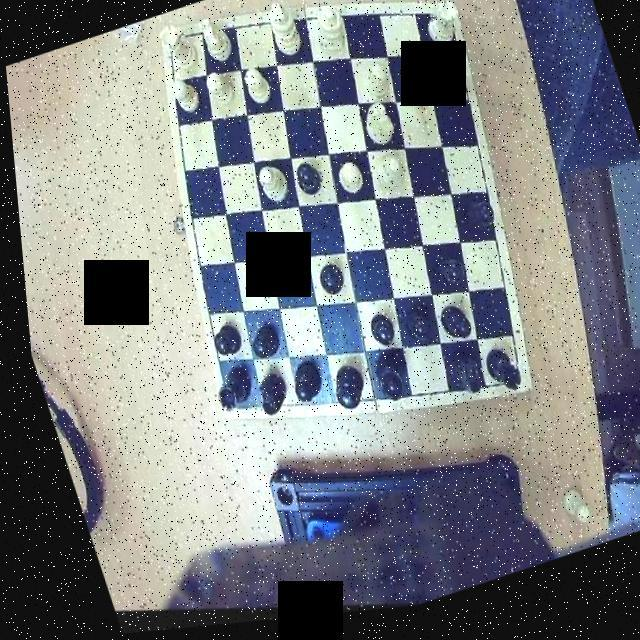chess-table-corners: (422, 5, 466, 52), (481, 362, 525, 408), (206, 382, 250, 428), (154, 24, 192, 66)
